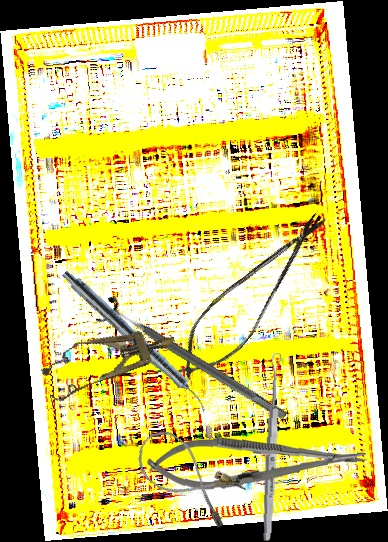Cannula: (127, 423, 249, 531)
Fixation Ring: (94, 293, 294, 431)
Handpiece: (57, 267, 214, 415)
Micro Scissor: (161, 195, 341, 397)
Needle Holder: (146, 431, 367, 494)
Speculum: (36, 313, 183, 407)
Surgical Spoon: (261, 352, 283, 542)
